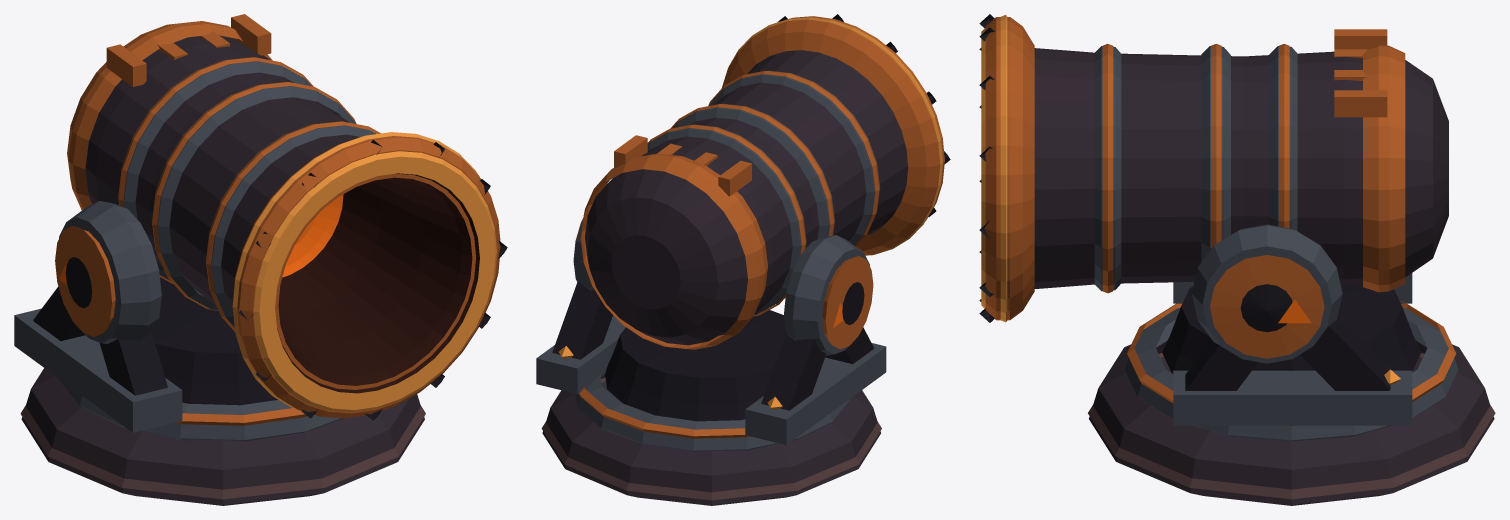
Rendered from volcanic_bombard.obj.
The picture shows the model from 3 angles, left to right: view 1: azimuth 30°, elevation 25°; view 2: azimuth 150°, elevation 25°; view 3: azimuth 270°, elevation 25°; orthographic projection. The views are drawn at different scales.
Parts seen in each view (by area): view 1: volcanic_bombard; view 2: volcanic_bombard; view 3: volcanic_bombard.
Part boxes in pixels (<box>): volcanic_bombard: <box>14,14,507,505</box>; volcanic_bombard: <box>536,14,950,505</box>; volcanic_bombard: <box>979,14,1495,505</box>.
Size of the model in its own units: 3.84 by 4.2 by 4.86.
